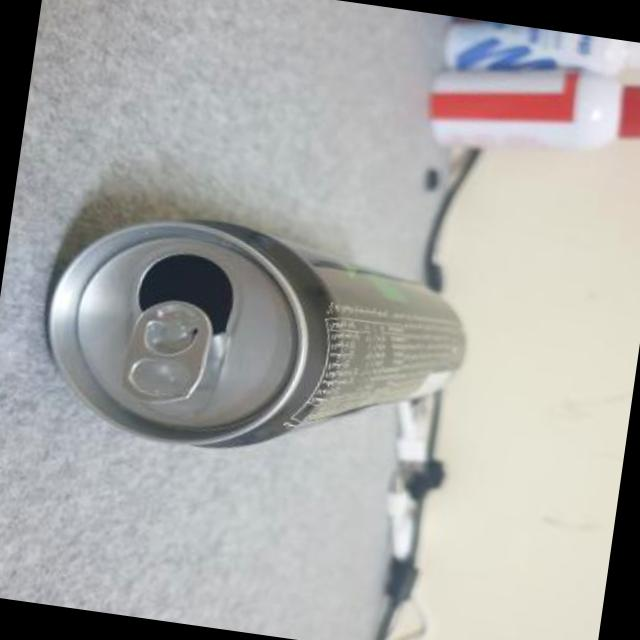metal: (52, 218, 468, 444)
